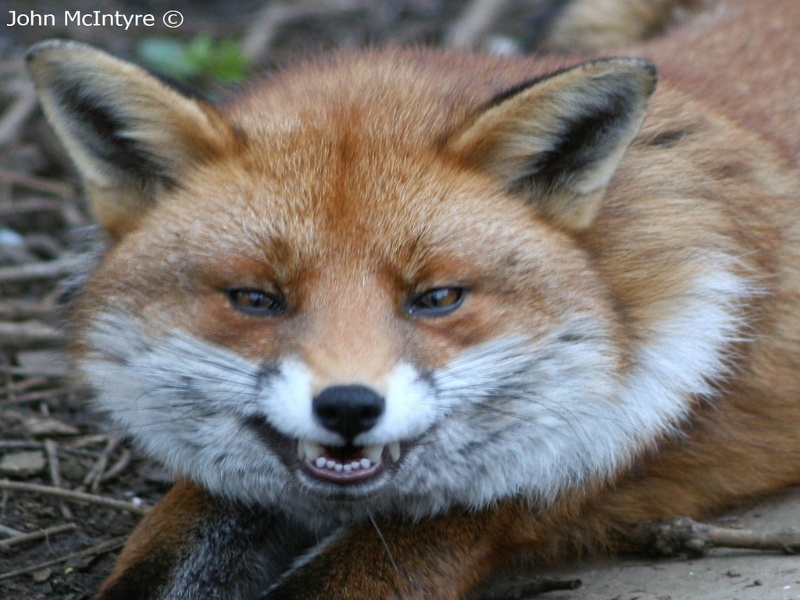fox: (27, 29, 800, 590)
